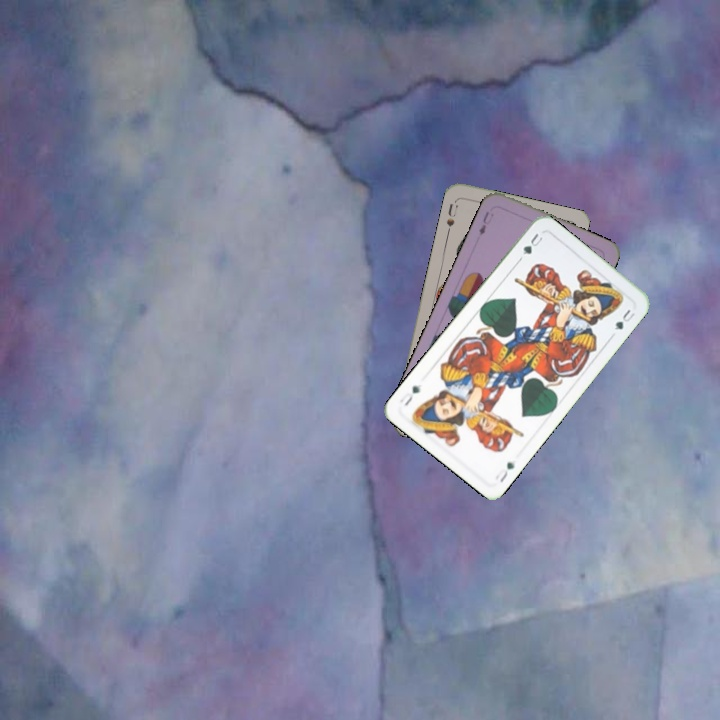EU: (475, 207, 495, 238)
GU: (519, 229, 546, 257), (491, 458, 518, 485)
SU: (442, 200, 460, 236)
